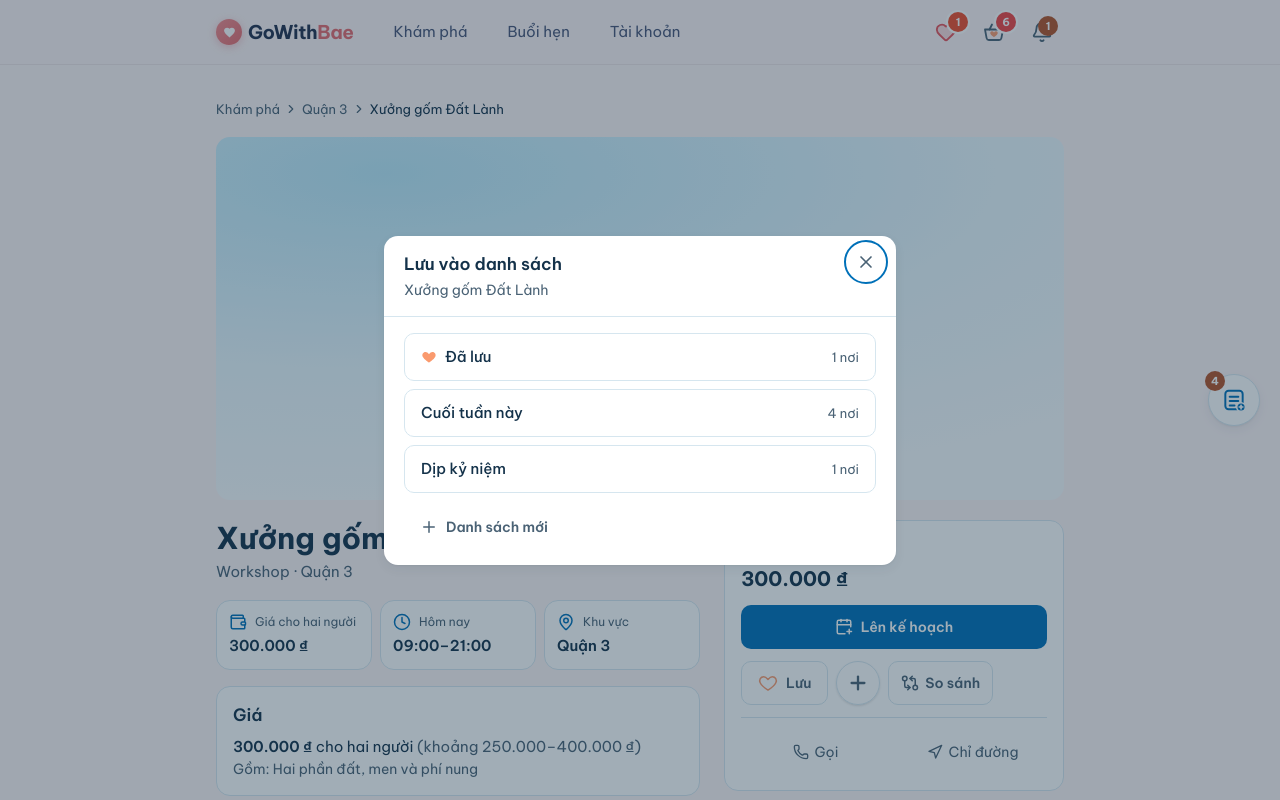
Scenario: UC-006 Danh sách đã lưu › AC-011: lưu lại nơi đã có trong danh sách không tạo bản ghi trùng
The image size is (1280, 800).
Click the button "Cuối tuần này 4 nơi".
click(472, 412)  # box x1=404 y1=388 x2=876 y2=436
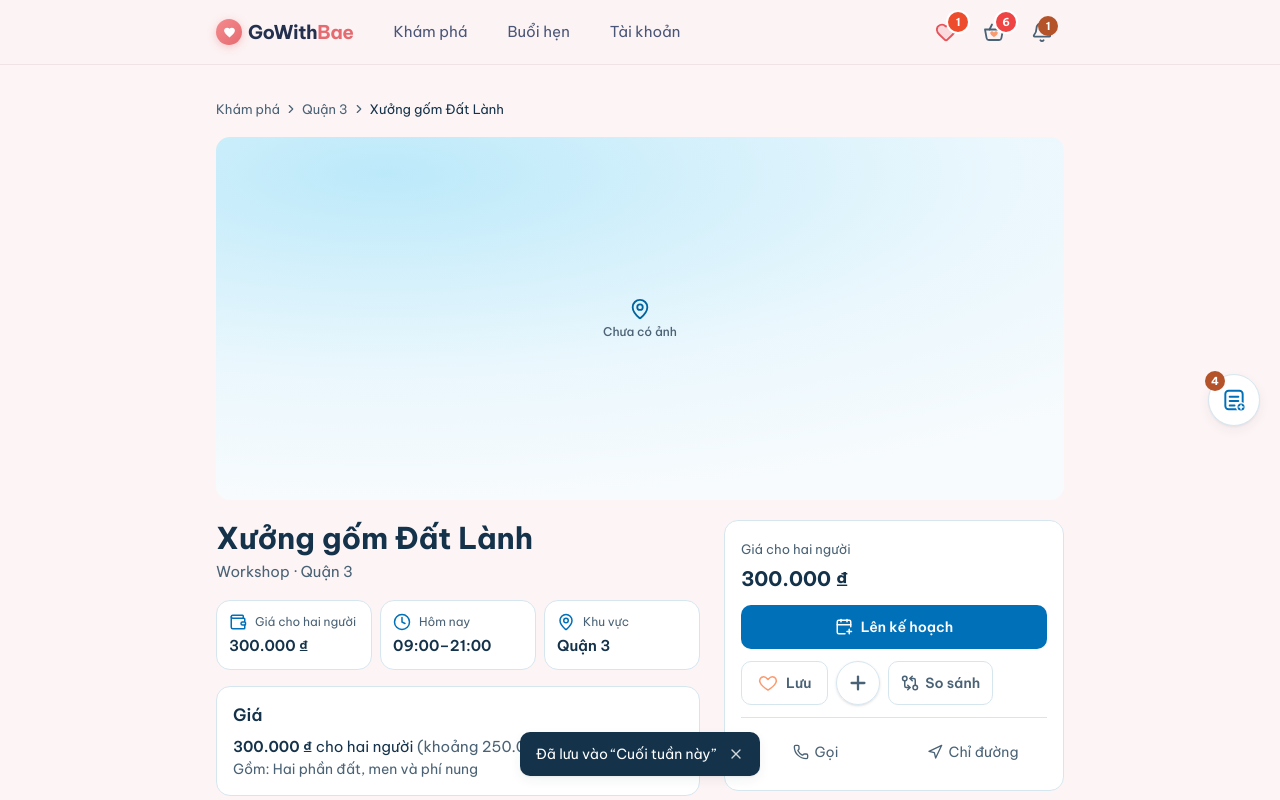
Expected: the text "Đã lưu vào “Cuối tuần này”" is shown, x1=536 y1=744 x2=716 y2=764
